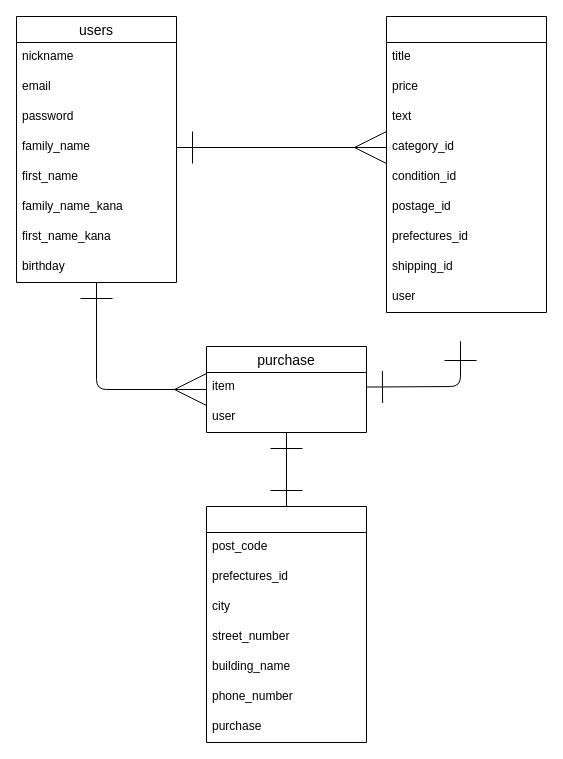
The diagram is 563 pixels wide and 759 high, and some of its shapes have lost their labels. Here are the shapes that lost their labels. From the top down, the box of each, then its label:
(386, 16, 546, 312): items
(206, 506, 366, 742): address
